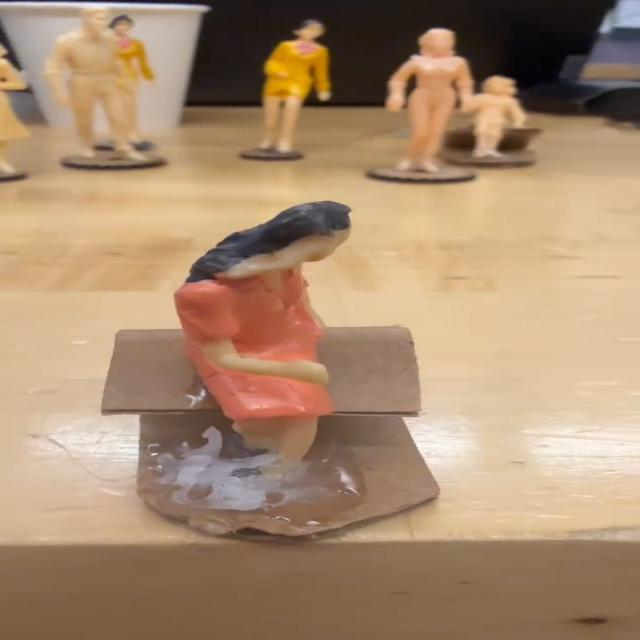Authorized: (167, 181, 355, 495)
